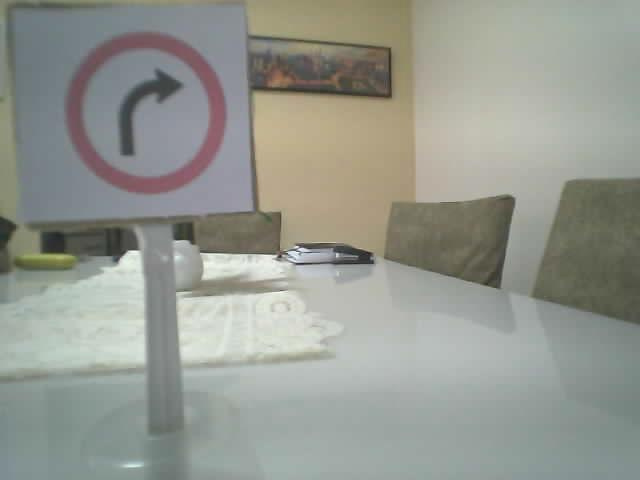R-25b_direita: (63, 30, 226, 194)
